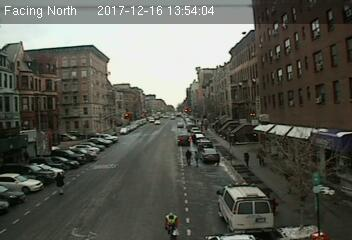bicycle: (162, 211, 183, 240)
car: (202, 149, 220, 162), (176, 132, 191, 146)
pedestrian: (54, 172, 68, 197), (183, 149, 194, 169), (242, 151, 251, 170)
police: (215, 181, 277, 235)
